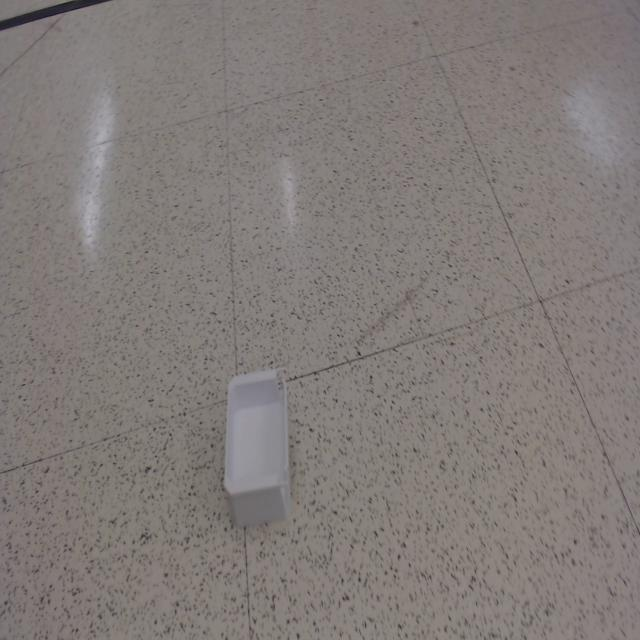wbox: (222, 365, 293, 529)
